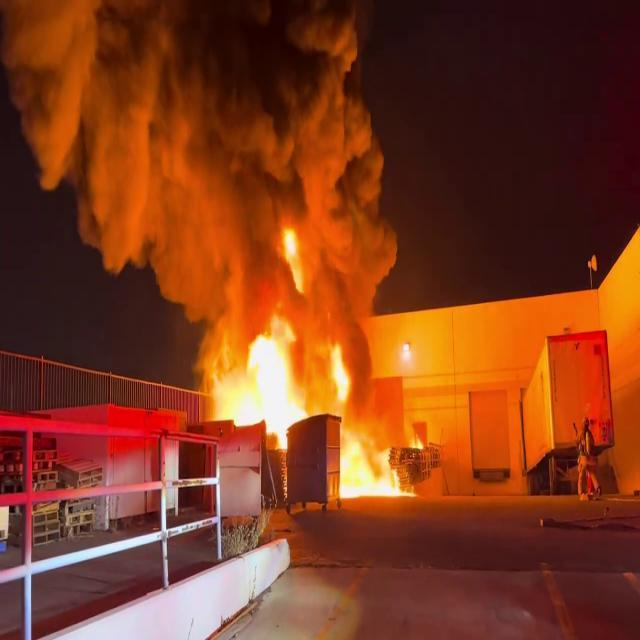Fire: (217, 291, 366, 421), (330, 426, 404, 498)
Smoke: (4, 0, 392, 296)
